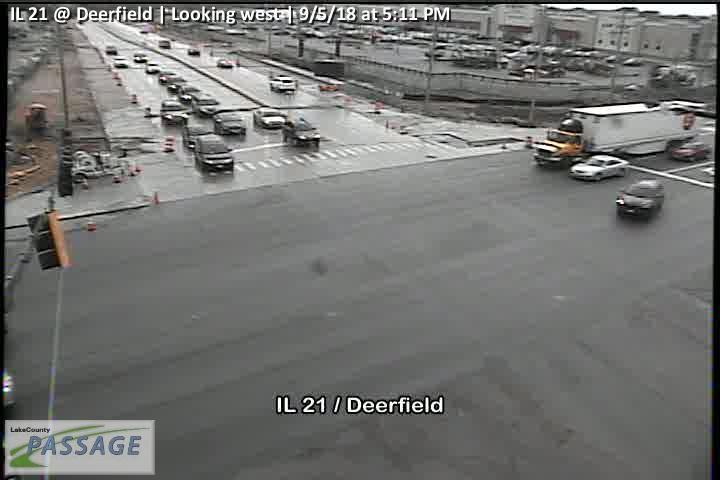Sedan: (613, 178, 666, 218), (567, 154, 628, 181), (194, 134, 233, 172), (283, 118, 322, 145), (212, 112, 247, 135), (160, 100, 186, 127), (252, 108, 285, 127), (191, 94, 217, 117), (270, 77, 297, 91)
Truck: (535, 103, 693, 166)
